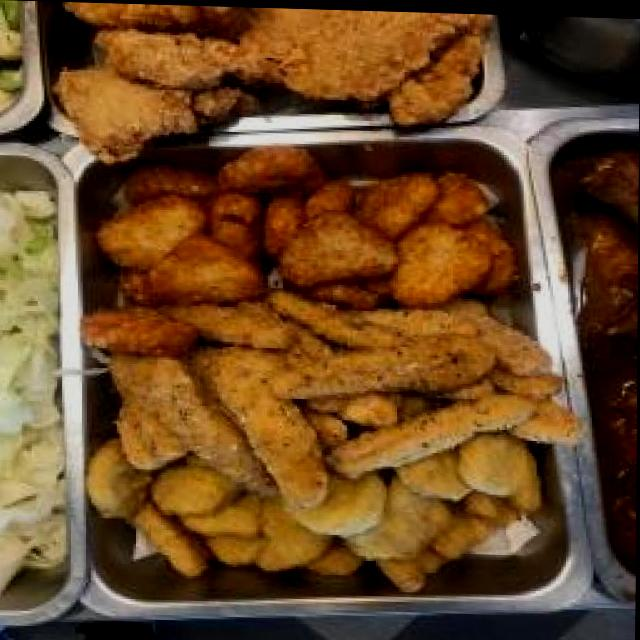chicken_nuggets: (95, 432, 538, 581)
chinese_cabbage: (0, 188, 59, 572)
triangle_hash_brown: (106, 161, 497, 300)
